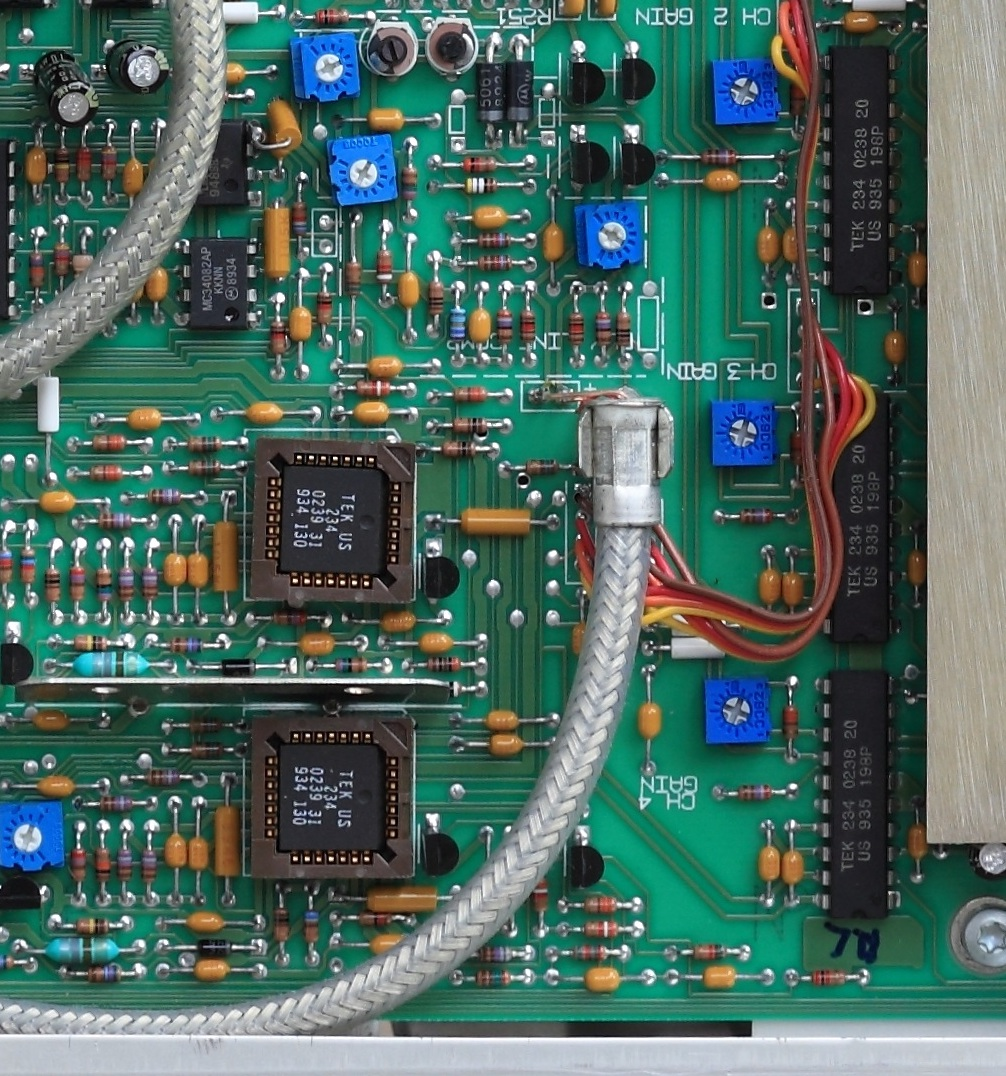Capacitor: (31, 49, 101, 129), (101, 36, 171, 97), (966, 835, 1006, 881)
Diode: (501, 55, 540, 129), (470, 56, 508, 130), (188, 936, 242, 962), (216, 656, 262, 677)
Resistor: (40, 934, 126, 968), (68, 649, 156, 680), (444, 381, 492, 408), (142, 483, 191, 508), (16, 542, 40, 592), (347, 377, 399, 400), (777, 699, 803, 745), (693, 146, 744, 169), (142, 764, 185, 791), (443, 415, 498, 436), (590, 305, 614, 353), (468, 968, 516, 992), (65, 559, 89, 607), (341, 255, 364, 305), (729, 781, 779, 804), (86, 429, 133, 453), (578, 918, 625, 942), (92, 560, 116, 607), (373, 244, 398, 289), (269, 904, 294, 949), (529, 873, 553, 919), (115, 562, 139, 608), (564, 305, 589, 349), (42, 562, 64, 612), (399, 162, 422, 209), (472, 229, 521, 251), (137, 562, 162, 605), (70, 246, 96, 287), (424, 275, 447, 321), (92, 842, 114, 890), (95, 792, 139, 816), (315, 283, 336, 333), (51, 142, 74, 187), (519, 456, 564, 479), (472, 944, 519, 966), (266, 316, 289, 360), (446, 303, 469, 347), (421, 653, 467, 675), (731, 506, 779, 527), (51, 236, 71, 286), (613, 306, 635, 351), (82, 964, 127, 986), (163, 634, 208, 656), (99, 139, 120, 186), (27, 246, 47, 295), (288, 196, 310, 240), (517, 307, 538, 353), (184, 738, 230, 759), (89, 510, 135, 531), (788, 424, 807, 474), (494, 306, 516, 349), (74, 140, 94, 187), (267, 607, 314, 627), (309, 6, 353, 27), (568, 943, 612, 964), (579, 895, 623, 916), (84, 463, 130, 483), (473, 252, 516, 273), (182, 458, 227, 478), (140, 844, 160, 889), (301, 906, 322, 948), (332, 654, 374, 675), (436, 440, 480, 460), (181, 434, 227, 453), (457, 176, 503, 195), (66, 634, 112, 653), (788, 73, 806, 121), (68, 842, 88, 885), (458, 154, 500, 174), (184, 716, 229, 734), (688, 943, 730, 962), (115, 844, 133, 888), (805, 969, 849, 986), (1, 541, 15, 591)
